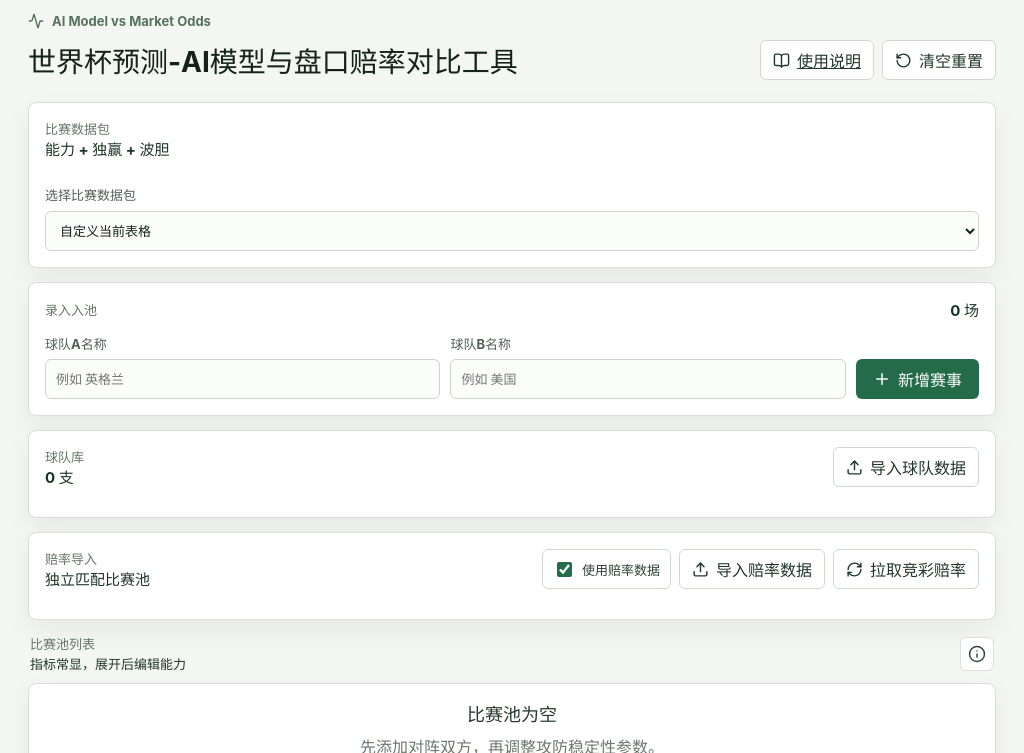
Test: App › copies the AI scoring prompt from the import panel
This screenshot has width=1024, height=753.
Click the button "导入球队数据" at {"x": 906, "y": 467}, box top-left (833, 447), bottom-right (979, 487)
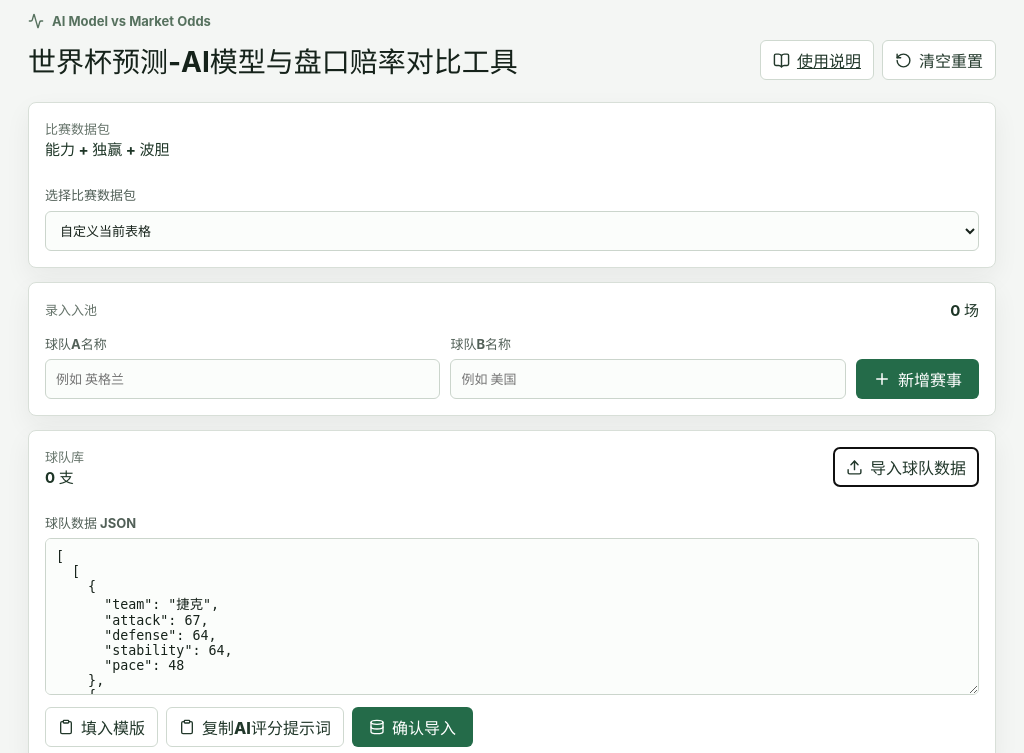
Click the button "复制AI评分提示词" at {"x": 255, "y": 727}, box top-left (166, 707), bottom-right (344, 747)
(page scrolled)
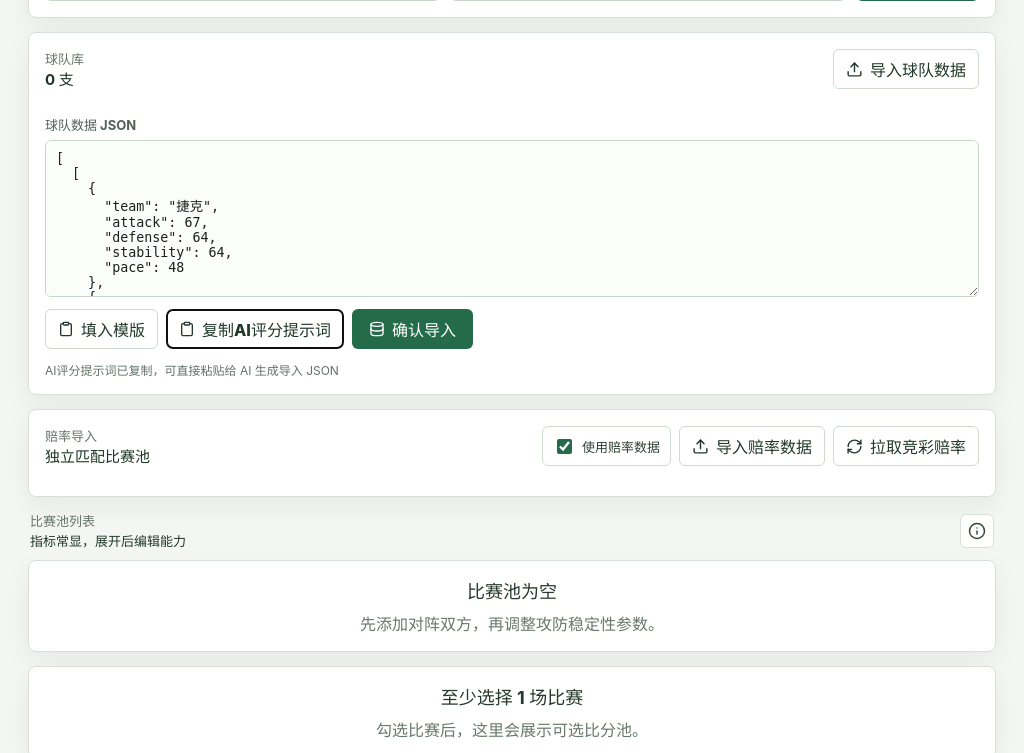
Result: the text "AI评分提示词已复制，可直接粘贴给 AI 生成导入 JSON" is shown at top-left (45, 363), bottom-right (339, 378)
